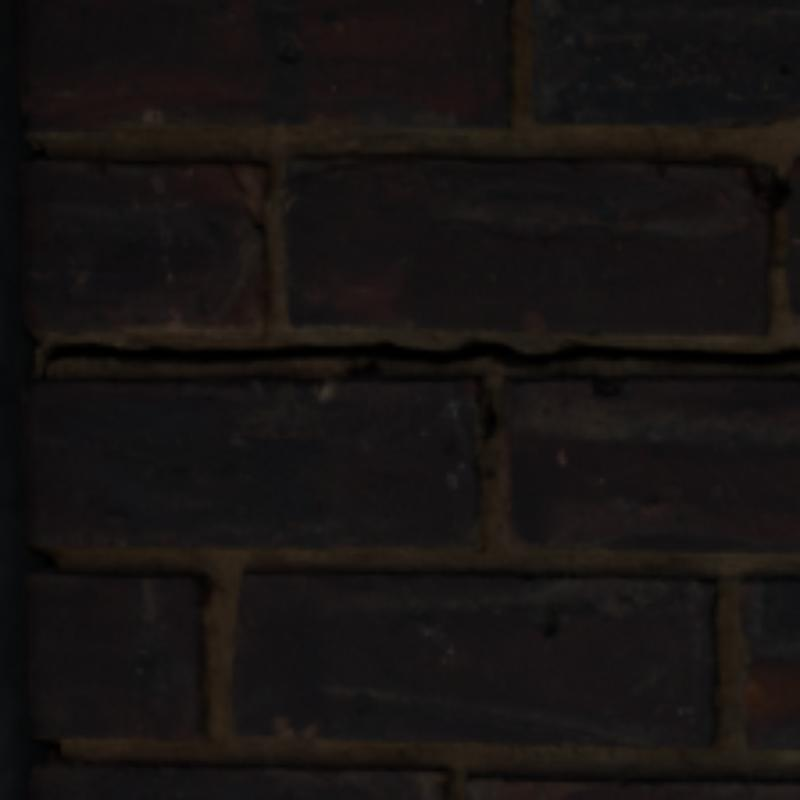pothole: (46, 339, 796, 364)
